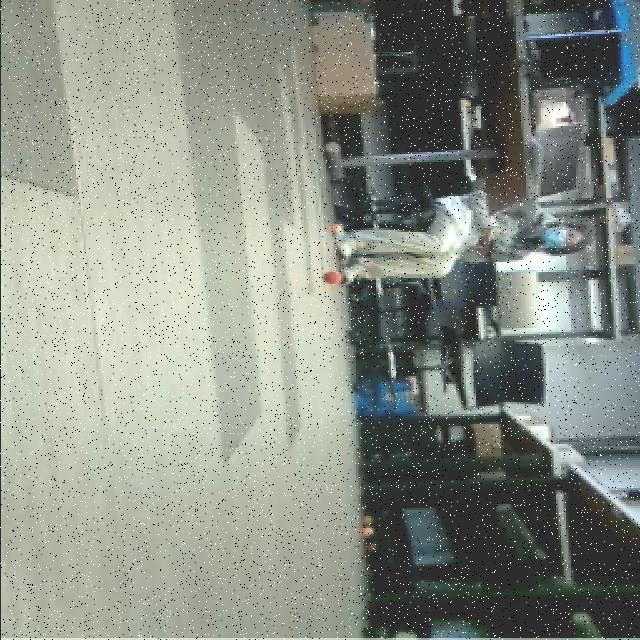ping-pong-ball: (319, 269, 341, 286), (326, 222, 346, 235), (359, 527, 375, 536)
